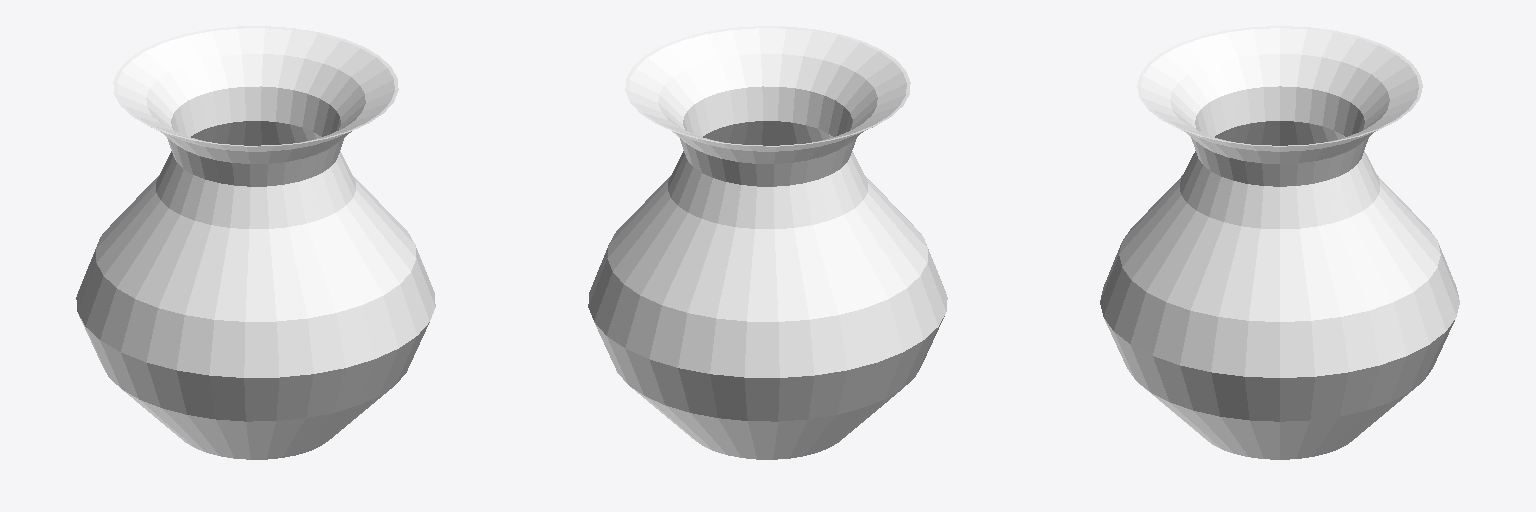
File: vaso tavolo.obj
3 views of the same model, side by side, from view 1: azimuth 30°, elevation 25°; view 2: azimuth 150°, elevation 25°; view 3: azimuth 270°, elevation 25° (orthographic).
Parts seen in each view (by area): view 1: vaso_tavolo.1; view 2: vaso_tavolo.1; view 3: vaso_tavolo.1.
Boxes of the visible parts, box(x1,y1,x2,y2) form: vaso_tavolo.1: box(76, 26, 435, 459); vaso_tavolo.1: box(588, 26, 947, 459); vaso_tavolo.1: box(1100, 26, 1459, 459).
Bounding box in the file's own units: 23.29 × 24.21 × 23.29.